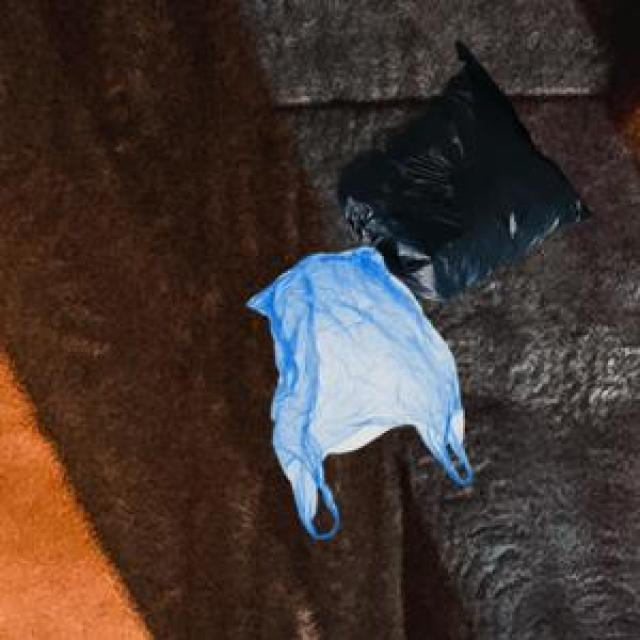miscellaneous trash: (333, 36, 591, 297)
